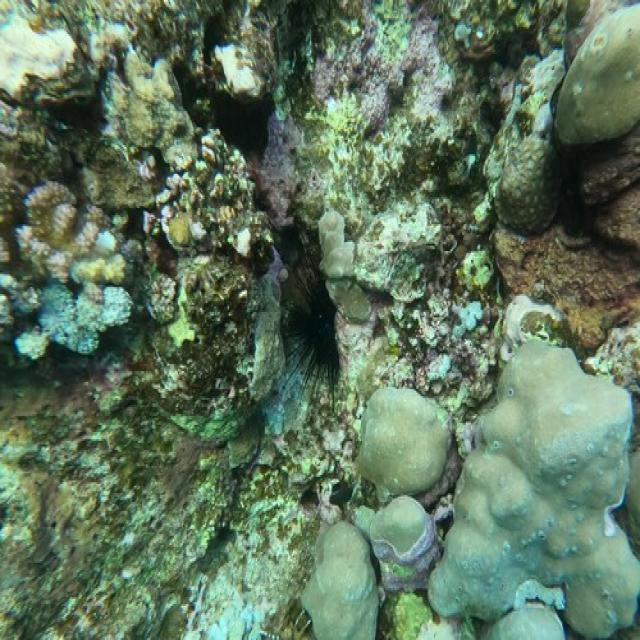Urchin: (273, 233, 361, 418)
